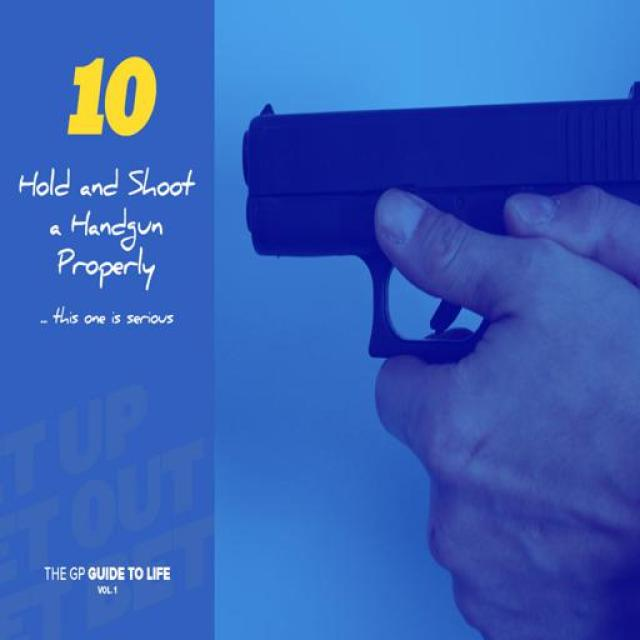pistol: (241, 74, 636, 379)
